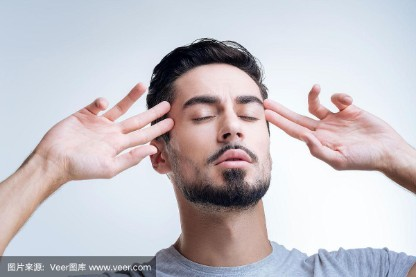闭眼: (182, 104, 215, 126), (235, 104, 265, 126)
